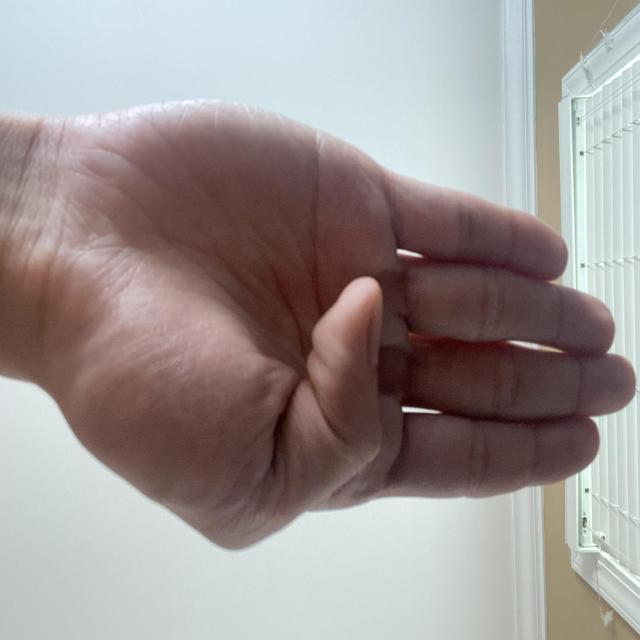B: (222, 0, 586, 640)
